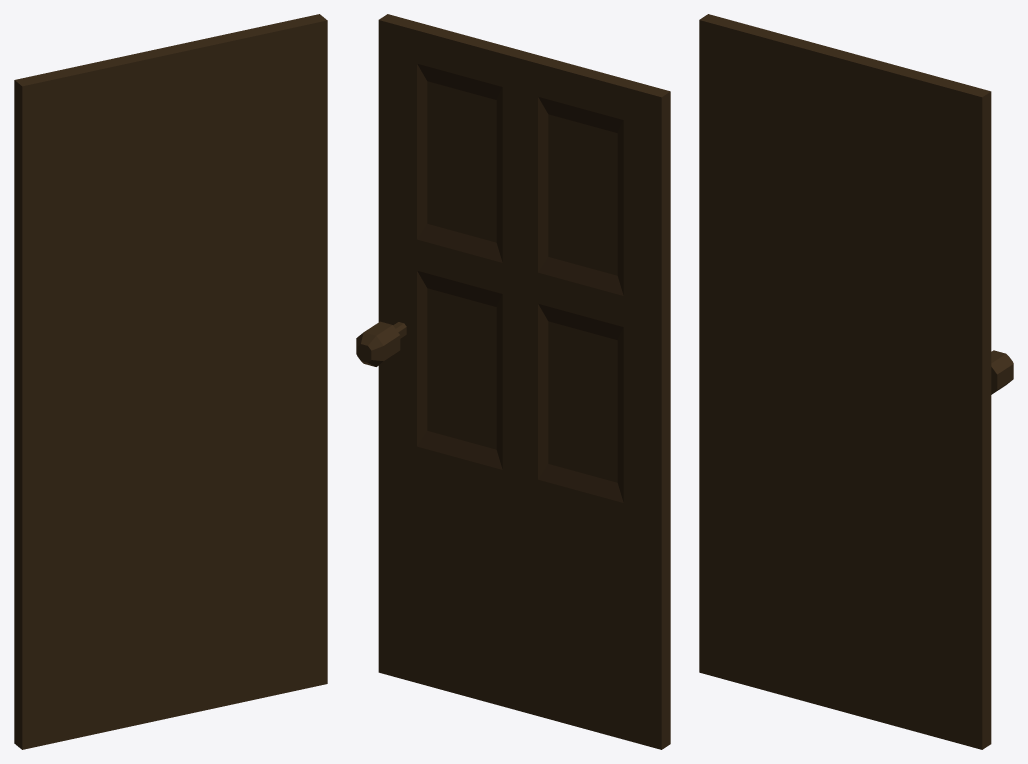
Rendered from GirlWithAmetureAndAnimationDoor.fbx.
3 renders of one model, left to right at view 1: azimuth 30°, elevation 25°; view 2: azimuth 150°, elevation 25°; view 3: azimuth 330°, elevation 25°, orthographic.
Visible parts, largest first — view 1: Cube; view 2: Cube; view 3: Cube.
Part boxes in pixels (x1,y1,x2,y2): Cube: (14,14,327,749); Cube: (356,14,670,749); Cube: (699,14,1013,749).
Size of the model in its own units: 274 by 583 by 70.16.
